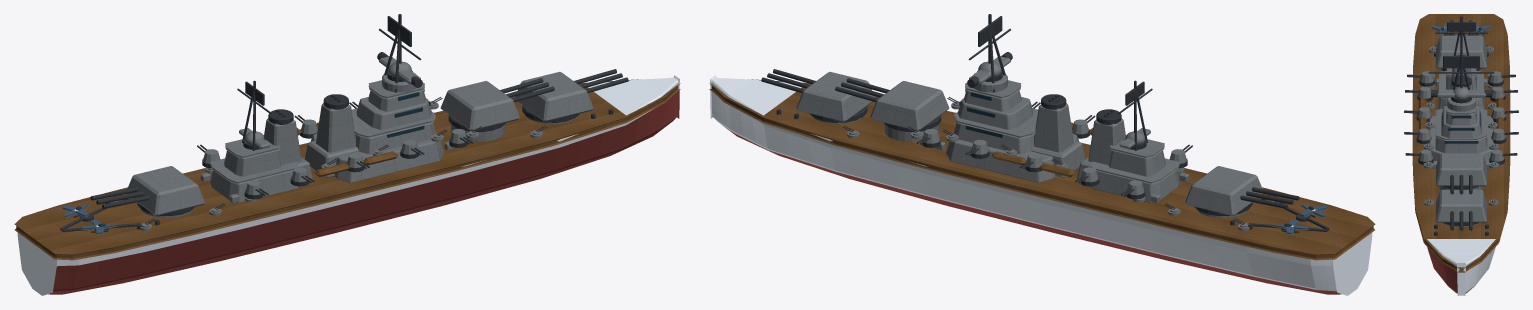
The model's file is battleship-classic.glb.
3 views of the same model, side by side, from view 1: azimuth 30°, elevation 25°; view 2: azimuth 150°, elevation 25°; view 3: azimuth 270°, elevation 25° (orthographic). The views are drawn at different scales.
Parts seen in each view (by area): view 1: Iowa_V5_Hull, Iowa_V3_Main_Deck, Turret_Main_2_Housing, Turret_Main_3_Housing, Turret_Main_1_Housing, Iowa_V3_Bridge_Level_1, Iowa_V3_Funnel_1, Iowa_V3_Bridge_Level_3, Iowa_V3_Aft_Tower_Level_1, Iowa_V3_Funnel_2, Iowa_V3_Bridge_Level_2, Iowa_V3_Aft_Tower_Level_2 (+6 smaller); view 2: Iowa_V5_Hull, Iowa_V3_Main_Deck, Turret_Main_2_Housing, Turret_Main_3_Housing, Turret_Main_1_Housing, Iowa_V3_Bridge_Level_1, Iowa_V3_Funnel_1, Iowa_V3_Bridge_Level_3, Iowa_V3_Aft_Tower_Level_1, Iowa_V3_Funnel_2, Iowa_V3_Bridge_Level_2, Iowa_V3_Aft_Tower_Level_2 (+6 smaller); view 3: Iowa_V3_Main_Deck, Iowa_V5_Hull, Turret_Main_2_Housing, Turret_Main_1_Housing, Turret_Main_3_Housing, Iowa_V3_Bridge_Level_3, Iowa_V3_Bridge_Level_2, Iowa_V3_Bridge_Platform_2, Iowa_V3_Bridge_Level_1, Iowa_V3_Fore_Radar, Iowa_V3_Main_Rangefinder, Iowa_V3_Conning_Tower (+31 smaller).
Boxes of the visible parts, x1=… form: Iowa_V5_Hull: x1=17, y1=75, x2=679, y2=295; Iowa_V3_Main_Deck: x1=14, y1=79, x2=680, y2=260; Turret_Main_2_Housing: x1=440, y1=81, x2=519, y2=130; Turret_Main_3_Housing: x1=126, y1=166, x2=204, y2=216; Turret_Main_1_Housing: x1=515, y1=71, x2=593, y2=121; Iowa_V3_Bridge_Level_1: x1=310, y1=133, x2=443, y2=182; Iowa_V3_Funnel_1: x1=316, y1=103, x2=355, y2=152; Iowa_V3_Bridge_Level_3: x1=356, y1=97, x2=431, y2=129; Iowa_V3_Aft_Tower_Level_1: x1=210, y1=170, x2=298, y2=202; Iowa_V3_Funnel_2: x1=264, y1=118, x2=301, y2=164; Iowa_V3_Bridge_Level_2: x1=355, y1=123, x2=435, y2=154; Iowa_V3_Aft_Tower_Level_2: x1=224, y1=150, x2=281, y2=176; Iowa_V5_Hull: x1=710, y1=75, x2=1372, y2=295; Iowa_V3_Main_Deck: x1=709, y1=79, x2=1375, y2=260; Turret_Main_2_Housing: x1=870, y1=81, x2=949, y2=130; Turret_Main_3_Housing: x1=1185, y1=166, x2=1263, y2=216; Turret_Main_1_Housing: x1=796, y1=71, x2=874, y2=121; Iowa_V3_Bridge_Level_1: x1=946, y1=133, x2=1079, y2=182; Iowa_V3_Funnel_1: x1=1034, y1=103, x2=1073, y2=152; Iowa_V3_Bridge_Level_3: x1=958, y1=97, x2=1033, y2=129; Iowa_V3_Aft_Tower_Level_1: x1=1091, y1=170, x2=1179, y2=202; Iowa_V3_Funnel_2: x1=1088, y1=118, x2=1125, y2=164; Iowa_V3_Bridge_Level_2: x1=954, y1=123, x2=1034, y2=154; Iowa_V3_Aft_Tower_Level_2: x1=1108, y1=150, x2=1165, y2=176; Iowa_V3_Main_Deck: x1=1412, y1=14, x2=1510, y2=272; Iowa_V5_Hull: x1=1427, y1=239, x2=1495, y2=295; Turret_Main_2_Housing: x1=1436, y1=153, x2=1486, y2=186; Turret_Main_1_Housing: x1=1436, y1=189, x2=1486, y2=222; Turret_Main_3_Housing: x1=1436, y1=35, x2=1486, y2=68; Iowa_V3_Bridge_Level_3: x1=1441, y1=106, x2=1481, y2=141; Iowa_V3_Bridge_Level_2: x1=1435, y1=137, x2=1487, y2=153; Iowa_V3_Bridge_Platform_2: x1=1435, y1=108, x2=1487, y2=140; Iowa_V3_Bridge_Level_1: x1=1427, y1=116, x2=1495, y2=161; Iowa_V3_Fore_Radar: x1=1443, y1=56, x2=1479, y2=68; Iowa_V3_Main_Rangefinder: x1=1436, y1=89, x2=1486, y2=97; Iowa_V3_Conning_Tower: x1=1446, y1=97, x2=1476, y2=111.
Bounding box in the file's own units: 40.14 × 11.68 × 7.66.
8 materials, 2 textured.
